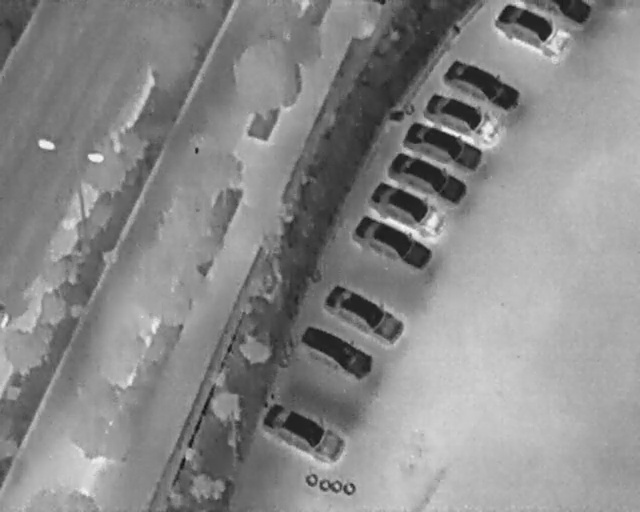Car: (254, 393, 354, 469), (290, 316, 381, 387), (320, 279, 411, 350), (347, 207, 439, 277), (362, 173, 452, 244), (383, 143, 473, 213), (418, 84, 511, 150), (438, 52, 527, 116), (489, 0, 575, 66), (400, 116, 489, 176), (524, 0, 592, 25)
